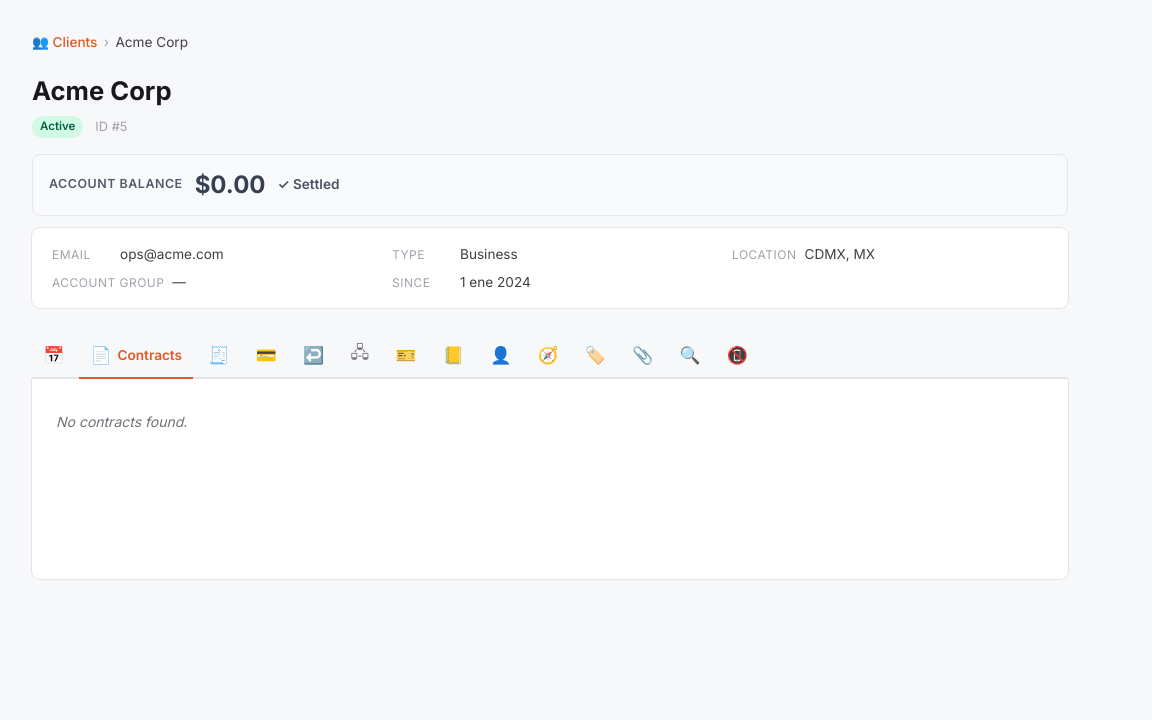
Test case: ClientDetail page › hides credit note write actions for readonly role
Expected: the heading "Acme Corp" is shown, [32,72,172,111]
Click the button named "Credit Notes": (314, 356) [292,332,335,379]
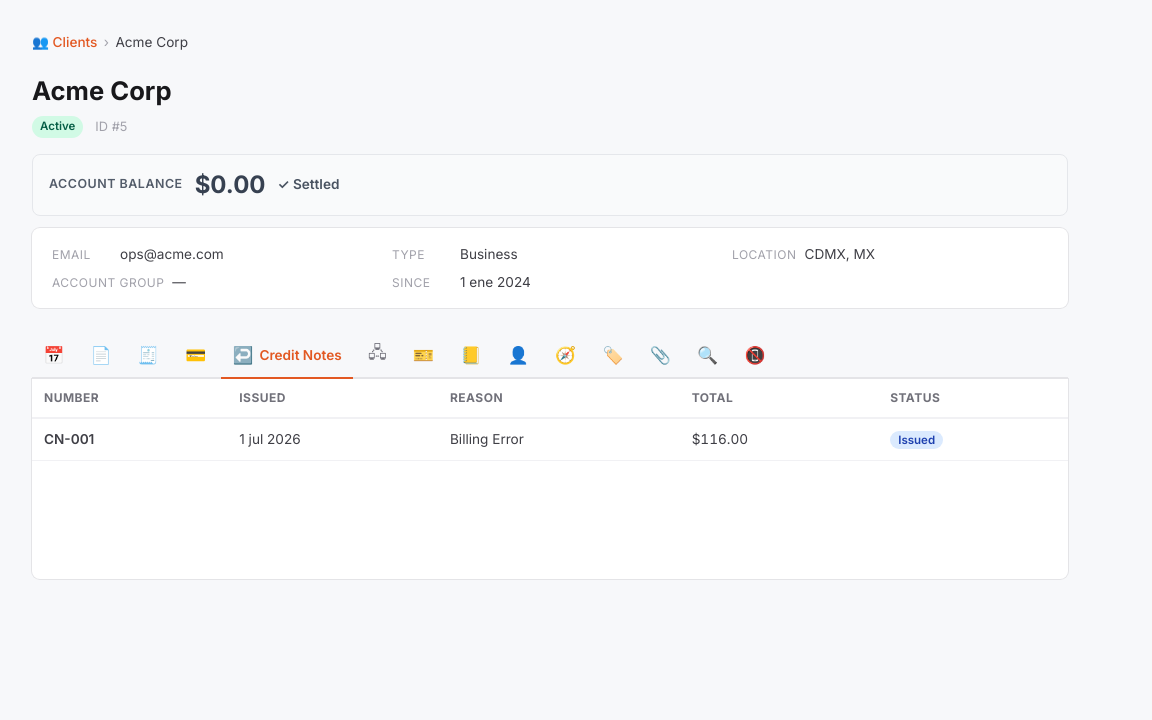
Now the text "CN-001" is shown, box [32,418,227,460]
